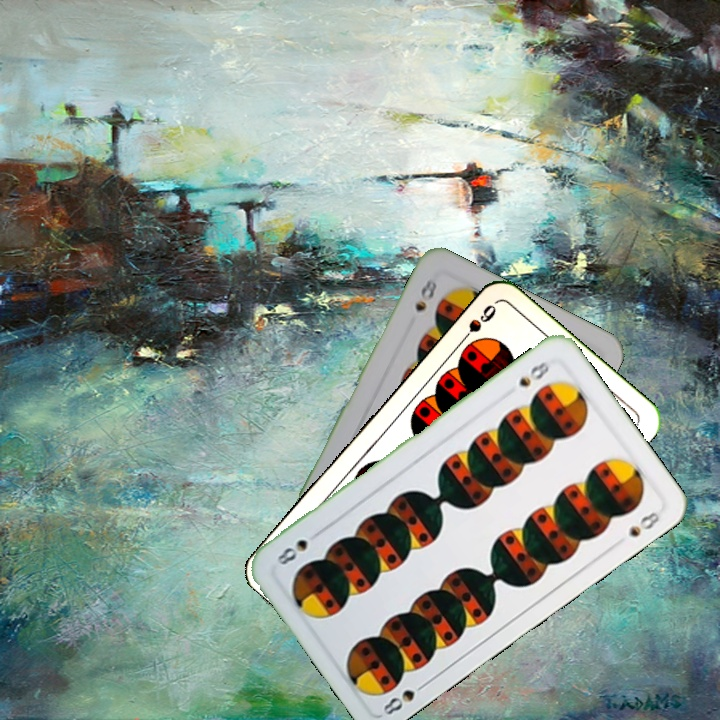S8: (378, 677, 431, 718), (410, 273, 440, 315), (515, 356, 552, 390)
S9: (454, 300, 499, 349)
